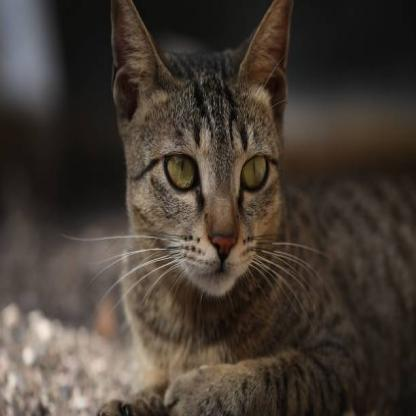cat: (97, 0, 416, 416)
